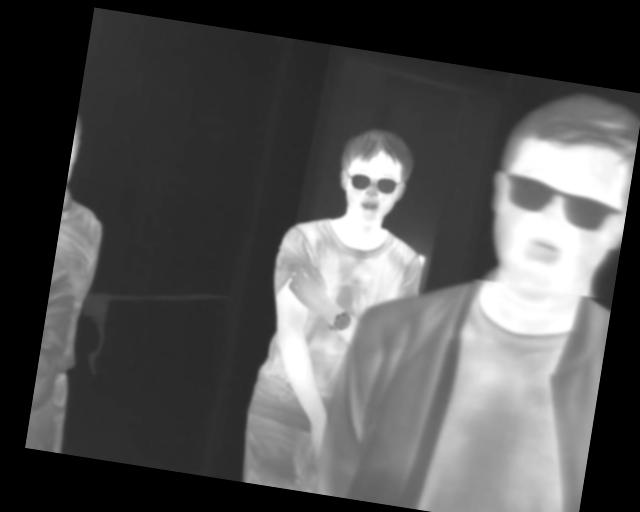face: (475, 80, 640, 309), (331, 123, 417, 230)
